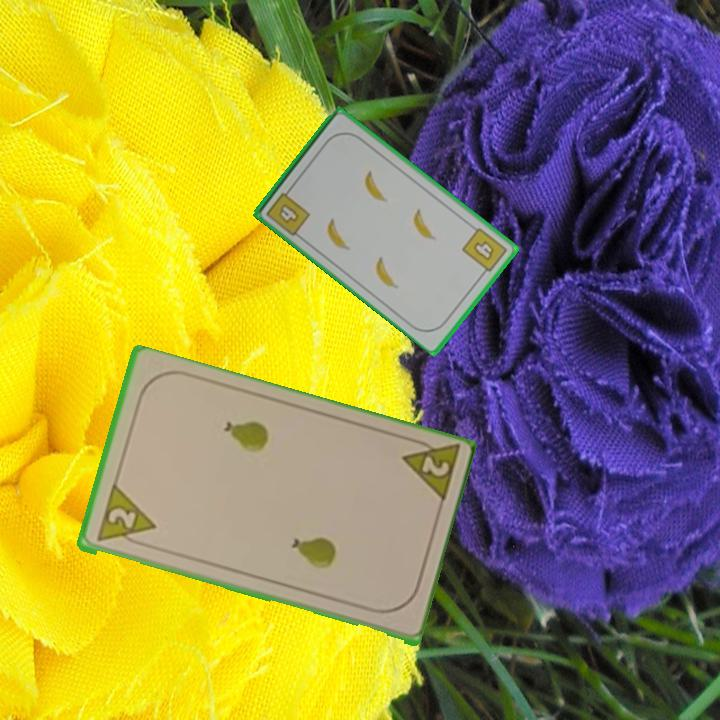2p: (397, 434, 462, 508), (104, 504, 139, 533)
4b: (458, 224, 510, 279), (263, 183, 313, 239)
